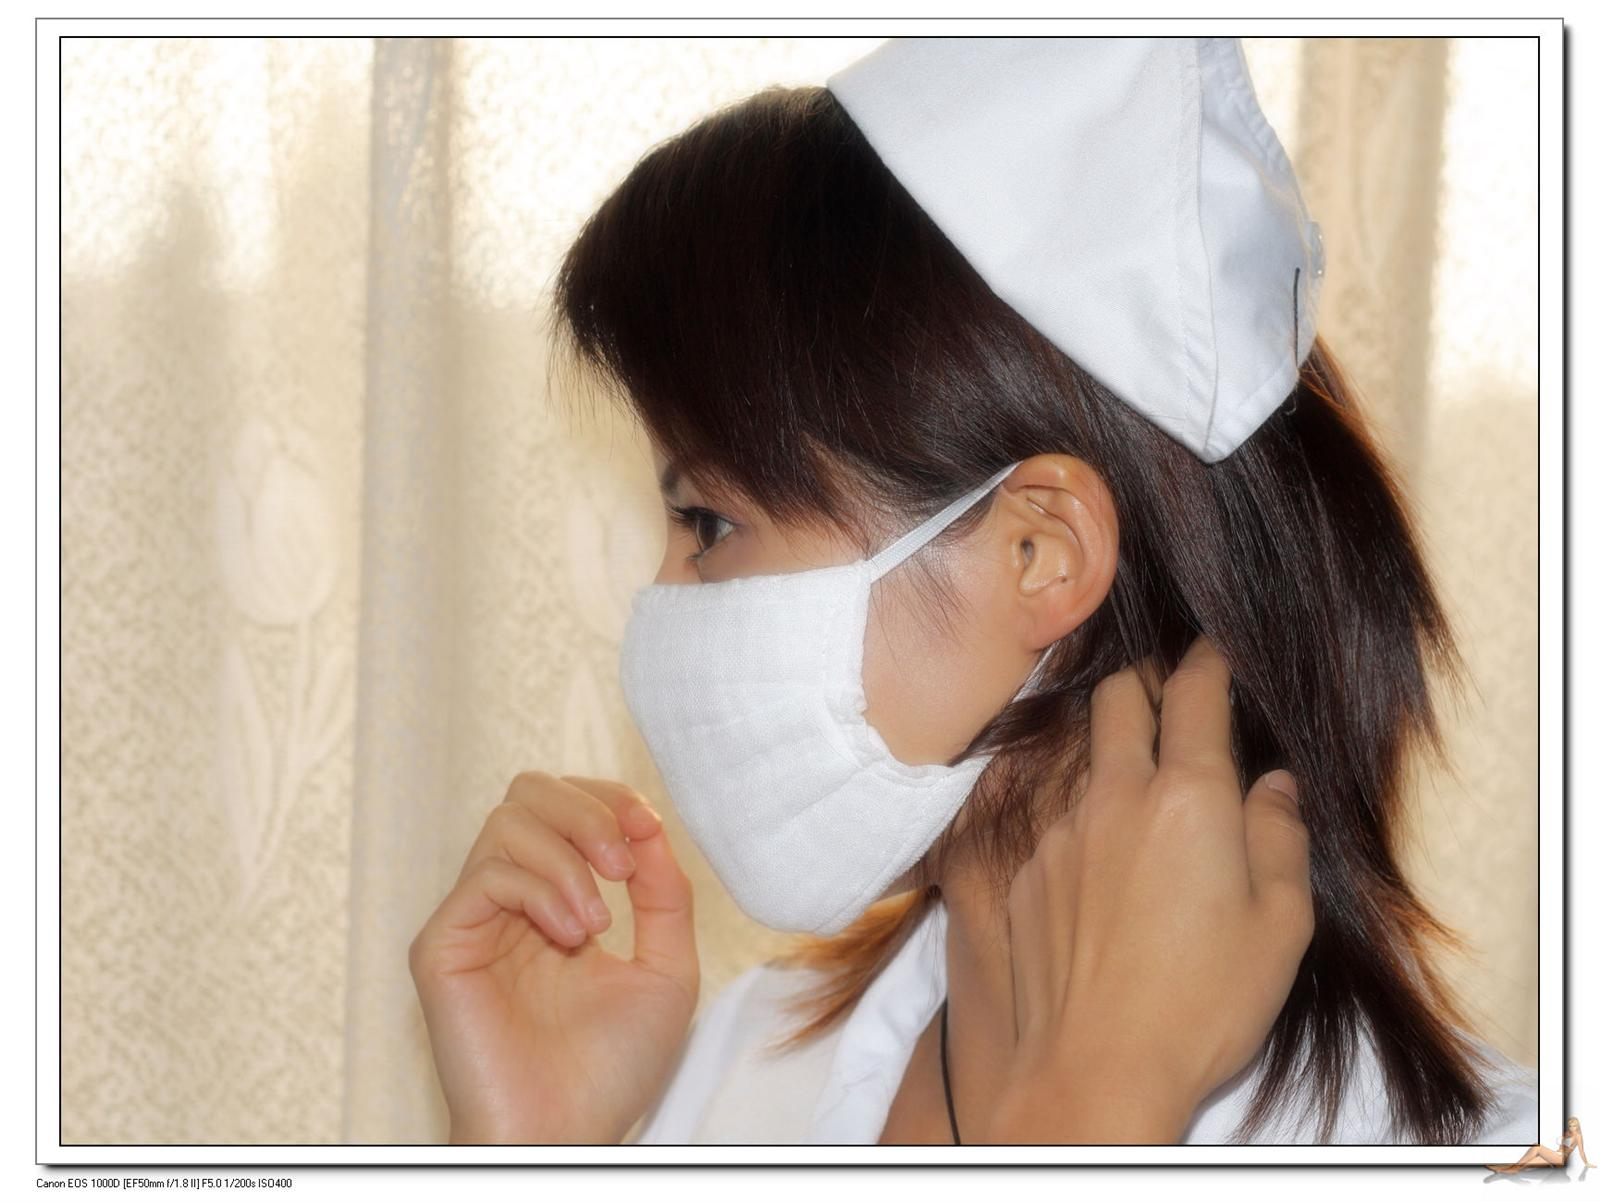face_mask: (599, 241, 1007, 941)
